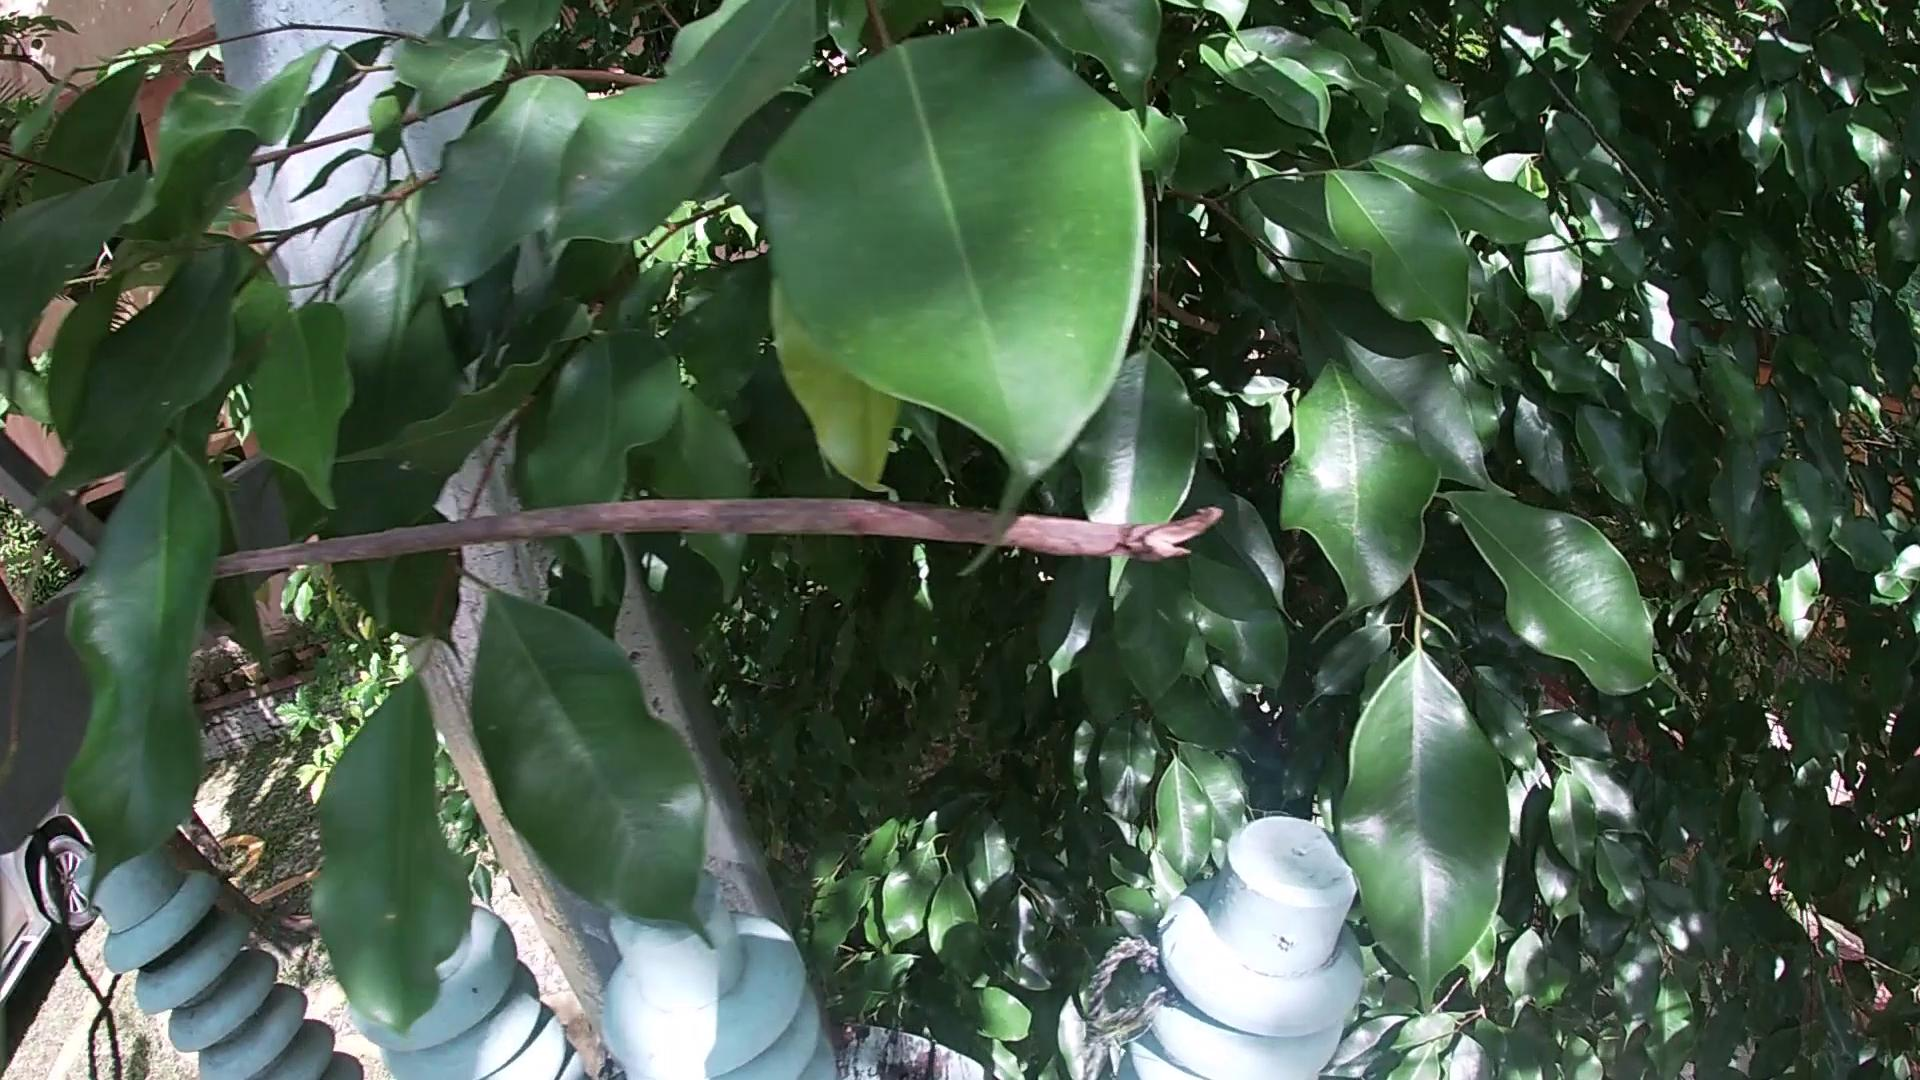tree branch: (1, 468, 1269, 781)
